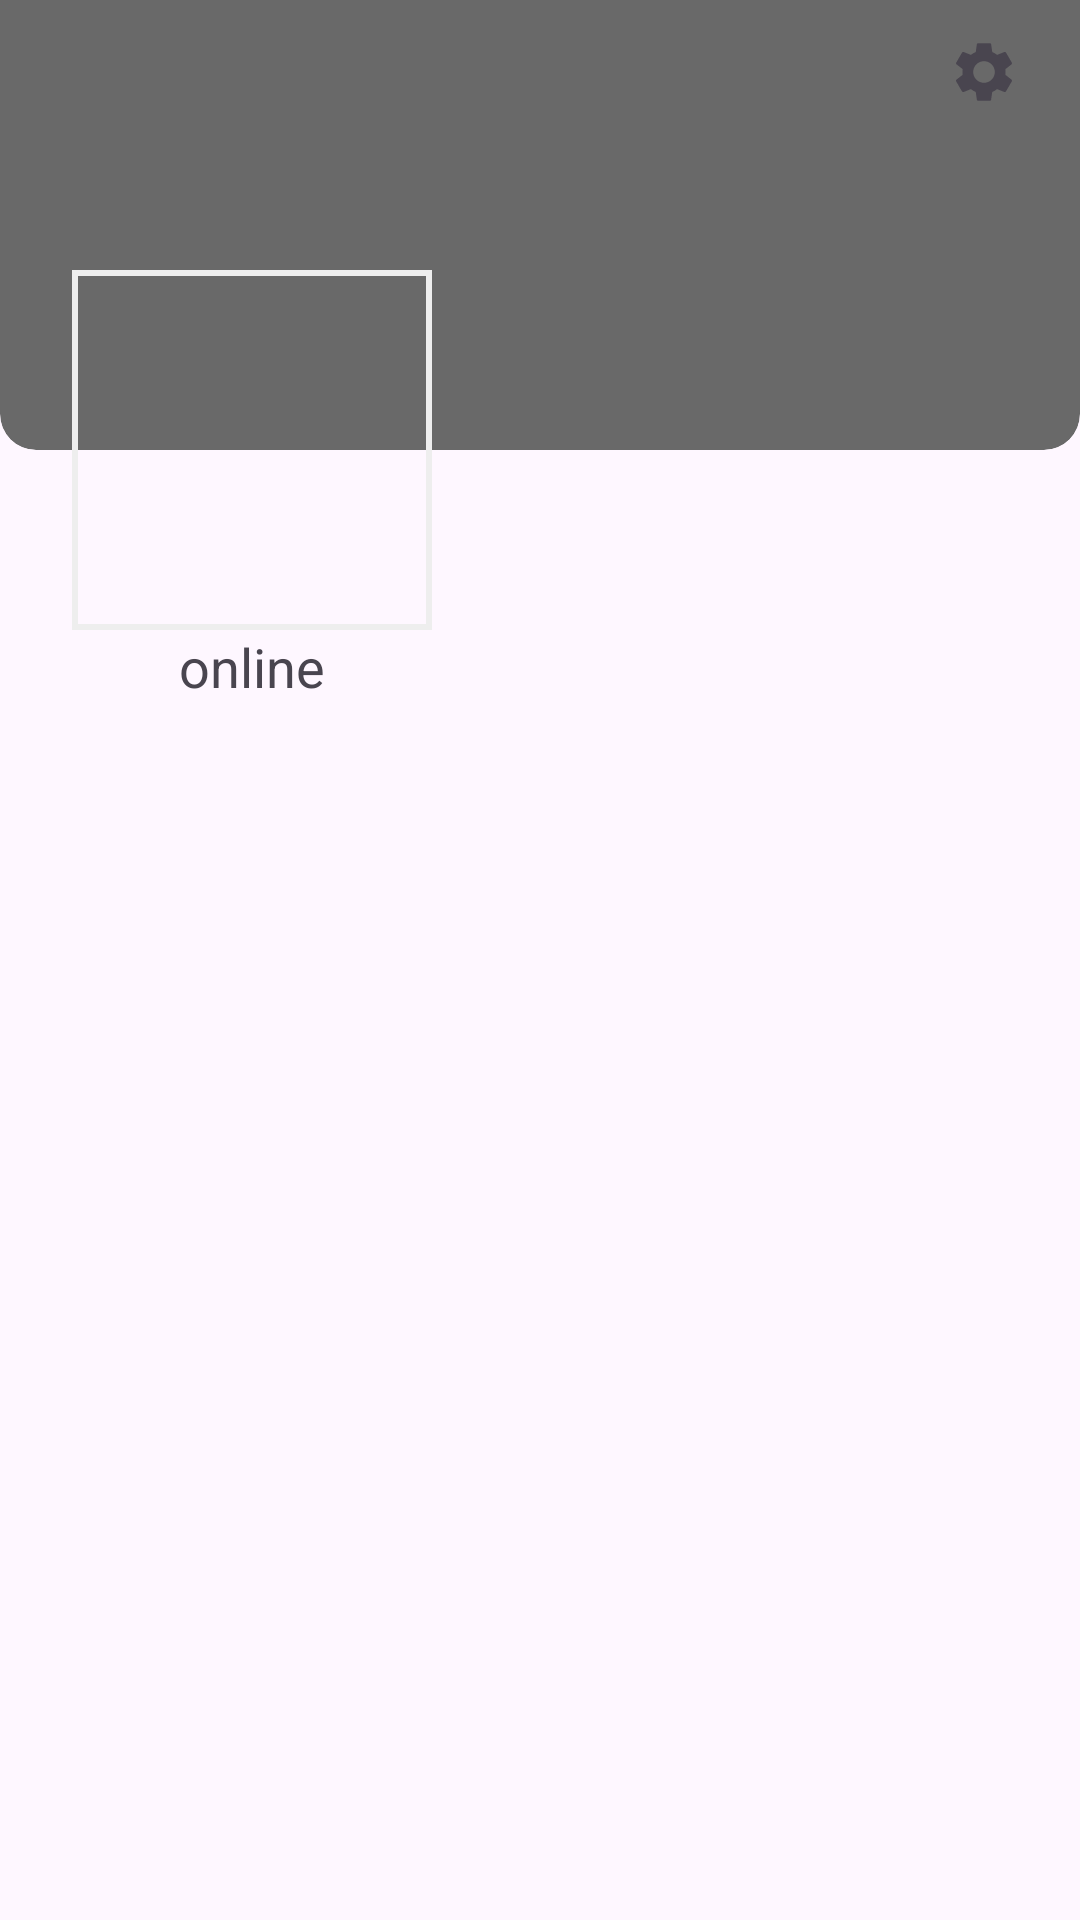

Where to tap for icons on this 1080x1920 app screen, as [x,y]:
settings: [984,72]
